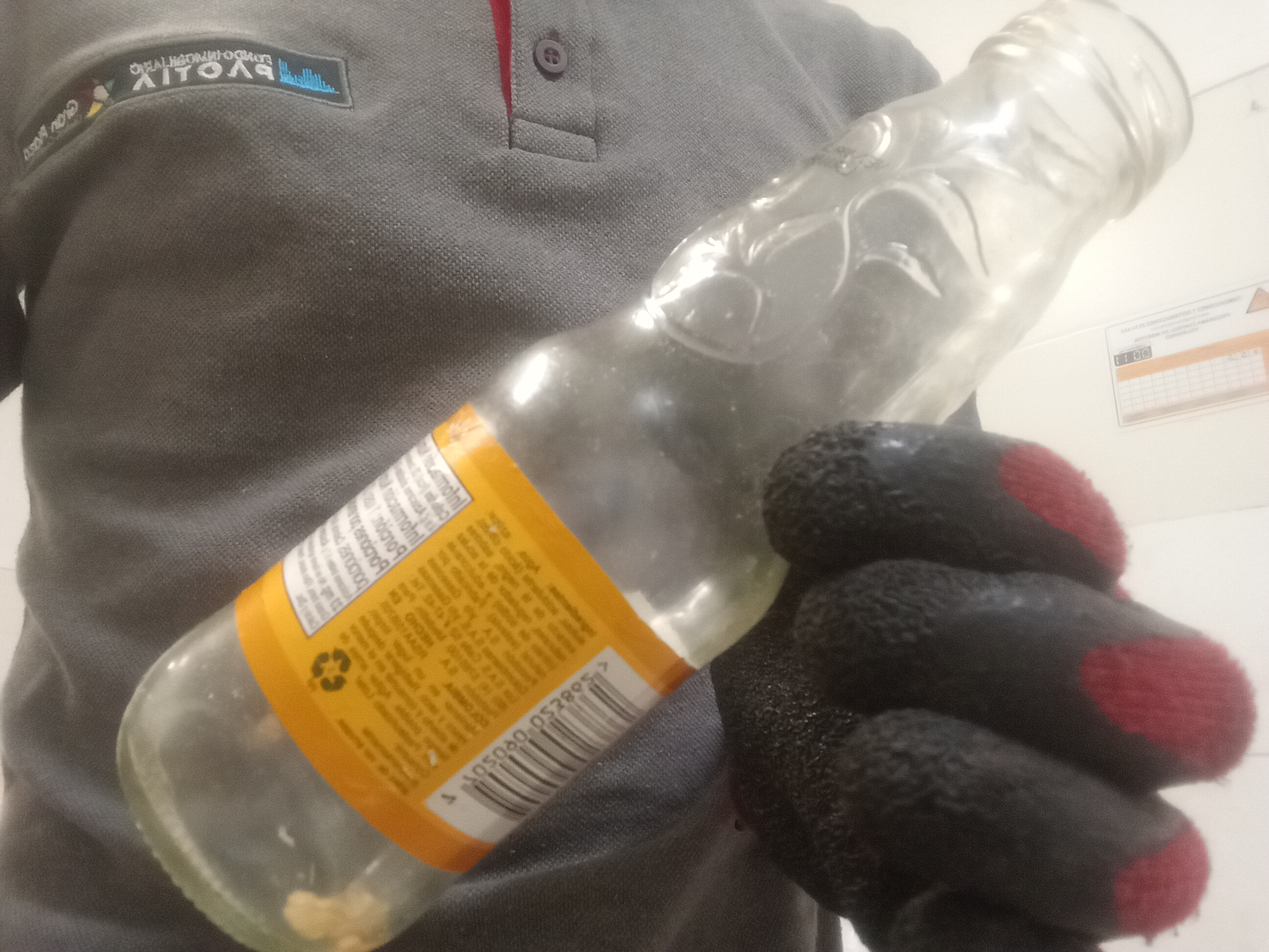Vidrio: (115, 0, 1192, 952)
